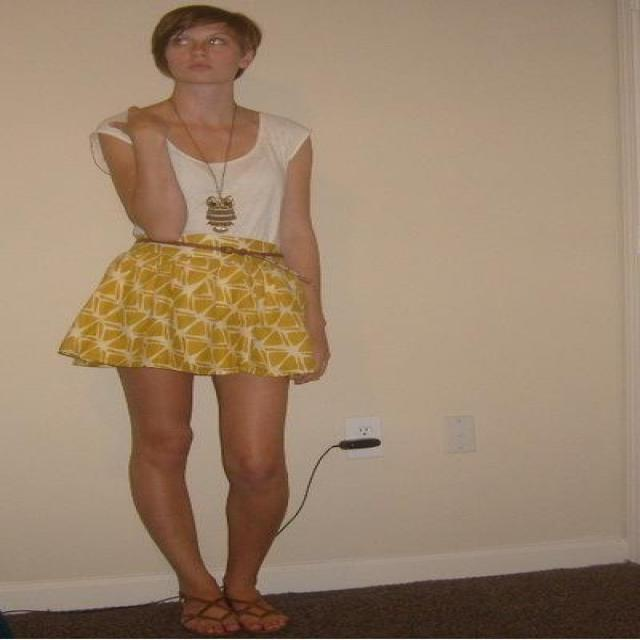shirt: (74, 102, 300, 248)
shoe: (176, 583, 264, 622)
skirt: (58, 227, 307, 387)
